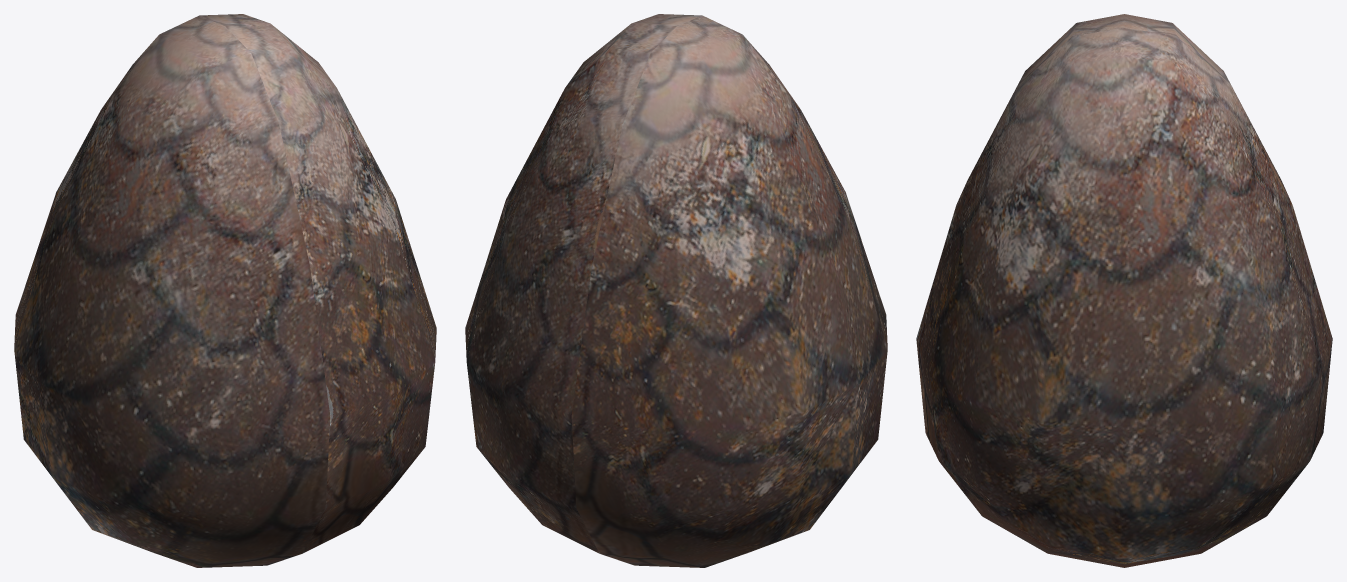
The model's file is OvoObj.fbx.
The picture shows the model from 3 angles, left to right: view 1: azimuth 30°, elevation 25°; view 2: azimuth 150°, elevation 25°; view 3: azimuth 270°, elevation 25°; orthographic projection.
Parts seen in each view (by area): view 1: pCube2; view 2: pCube2; view 3: pCube2.
Part boxes in pixels (x1,y1,x2,y2): pCube2: (14, 14, 436, 567); pCube2: (465, 14, 887, 567); pCube2: (916, 14, 1332, 567).
Bounding box in the file's own units: 0.8848 × 1.21 × 0.8848.
